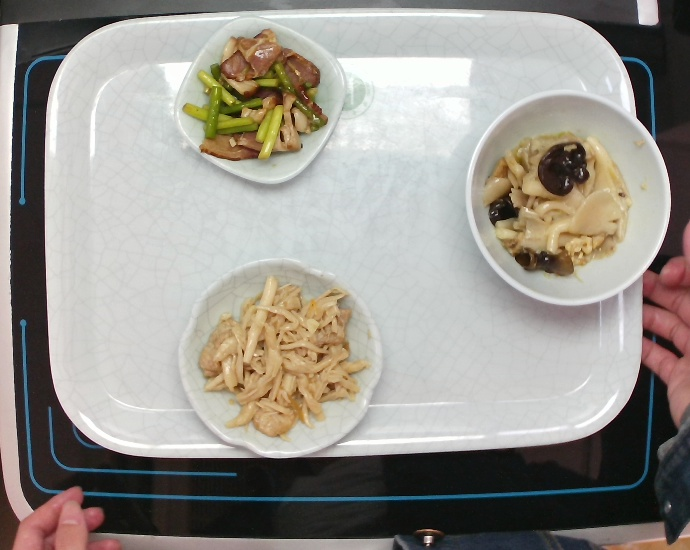JYsf-Ao_Yuan_Wan: (167, 253, 383, 460)
JYsf-Fan_Wan: (449, 84, 681, 317)
JYsf-Si_Fang_Die: (170, 11, 351, 190)
